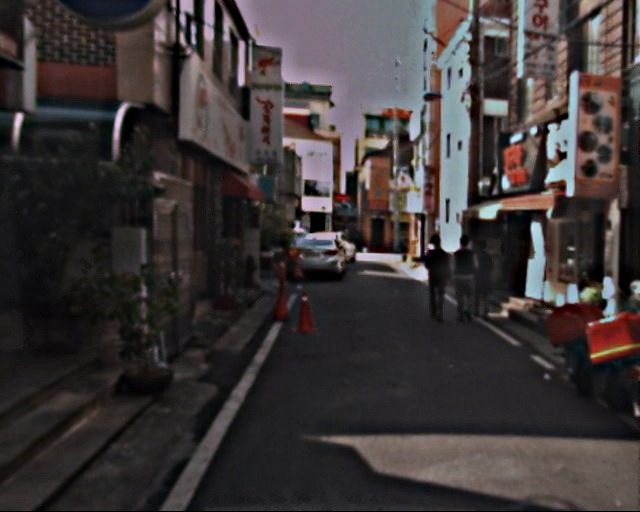person: (423, 237, 460, 327), (470, 236, 506, 324), (452, 236, 488, 323)
